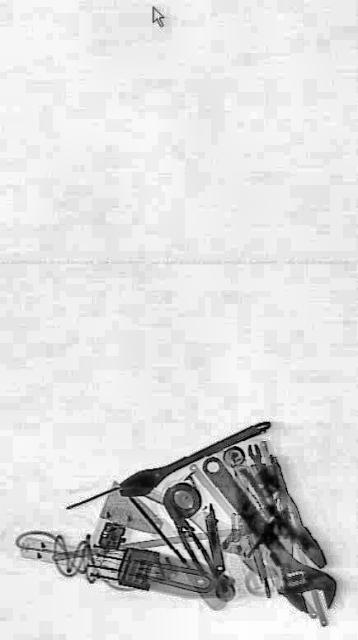Pliers: (238, 441, 332, 582), (160, 490, 218, 590)
Wrench: (194, 433, 338, 639), (117, 411, 271, 503), (245, 437, 269, 489)
